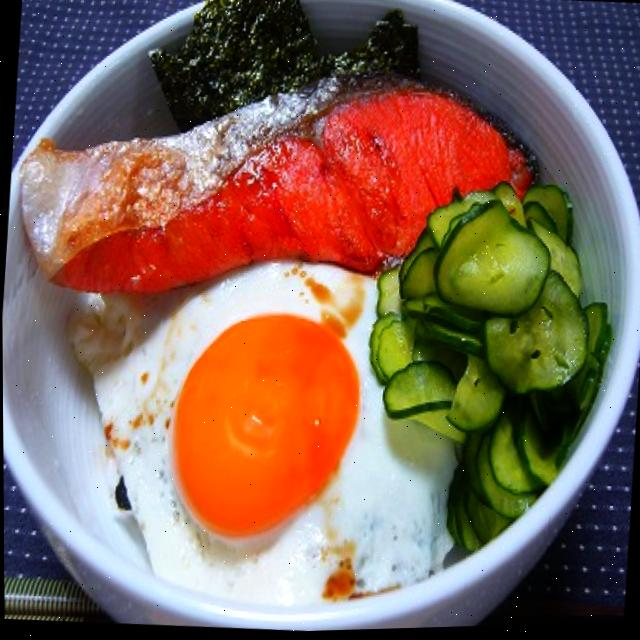熟制海鲜: (7, 55, 540, 308)
鸡蛋料理: (111, 265, 375, 611)
